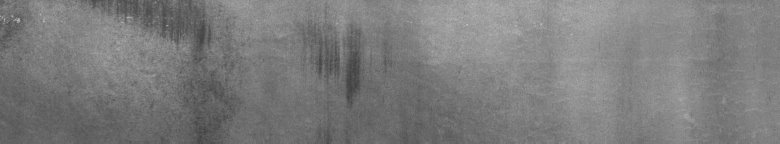ka: (307, 28, 363, 107)
